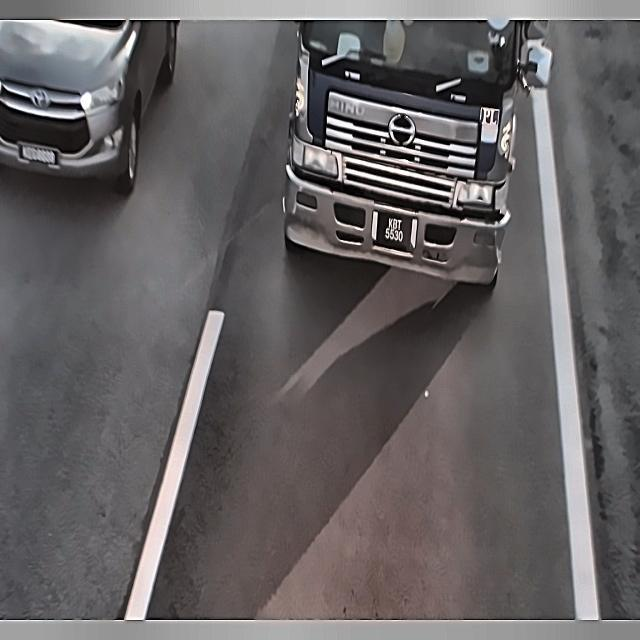car: (367, 206, 420, 255), (15, 142, 68, 170)
